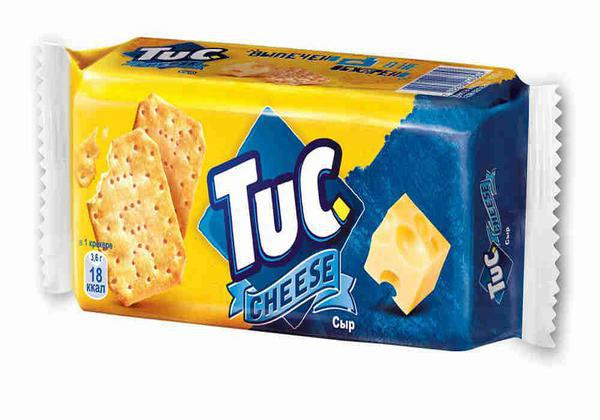crackers tuc: (78, 31, 540, 358)
